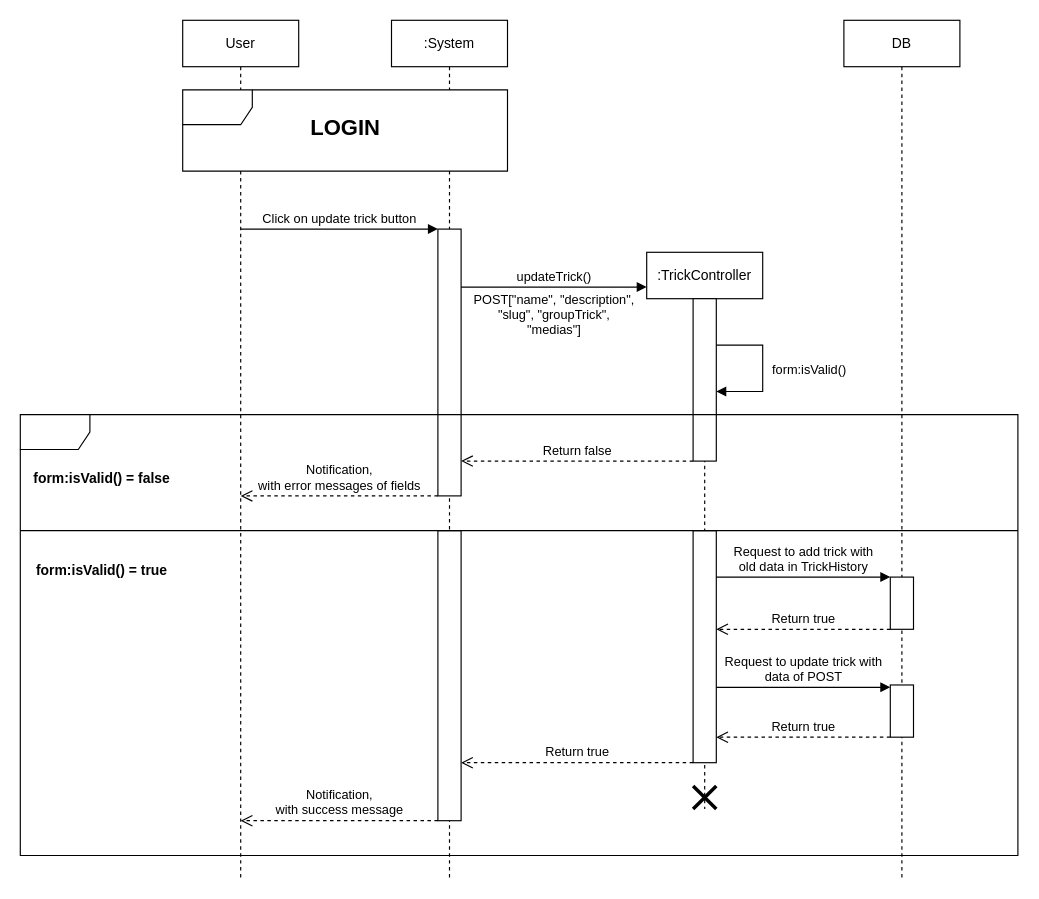
Image size: 1039x899. Some labels were removed from this diagram. The shapes that lost their labels are listed below. From the top down, each one's box as (x1, y1, x2, y2) in pixels, then its label:
(182, 89, 507, 171): REF
(19, 414, 1018, 855): ALT
